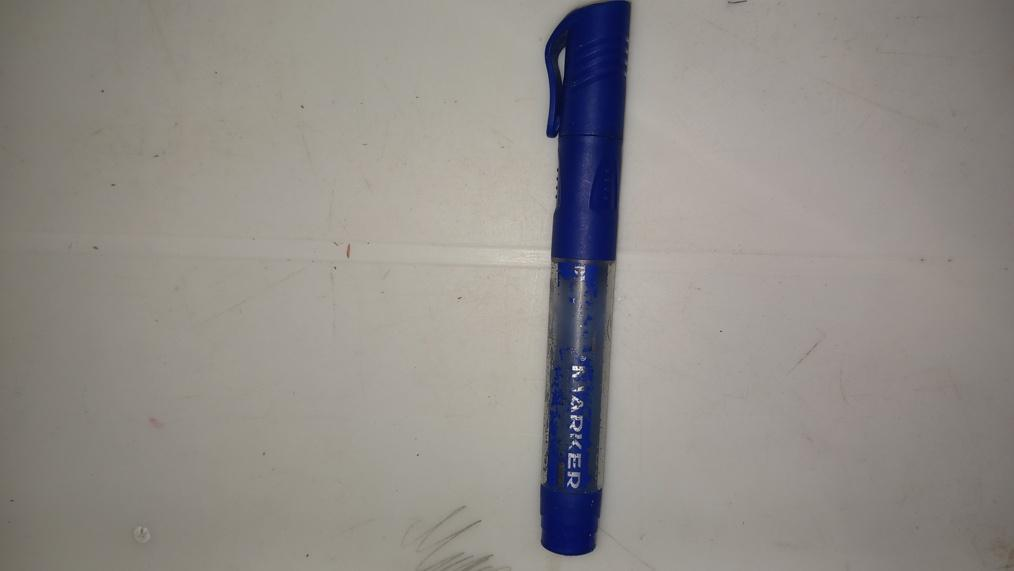Whiteboard marker: (536, 2, 630, 555)
